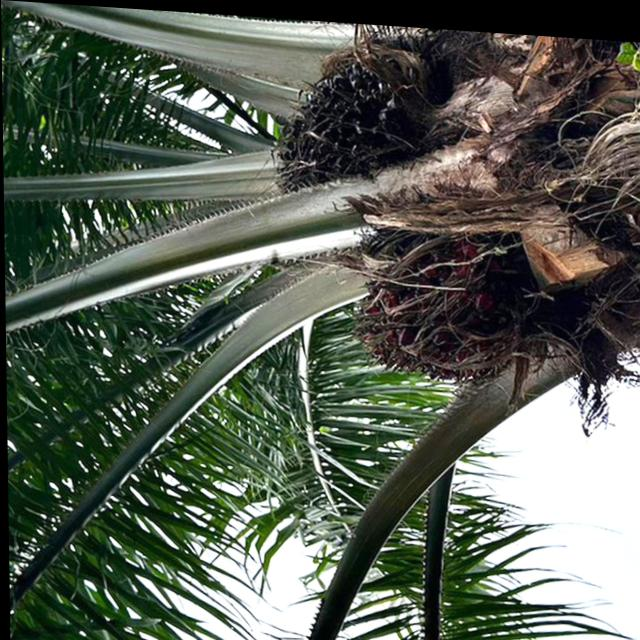ripe: (345, 227, 519, 381), (254, 40, 420, 195)
